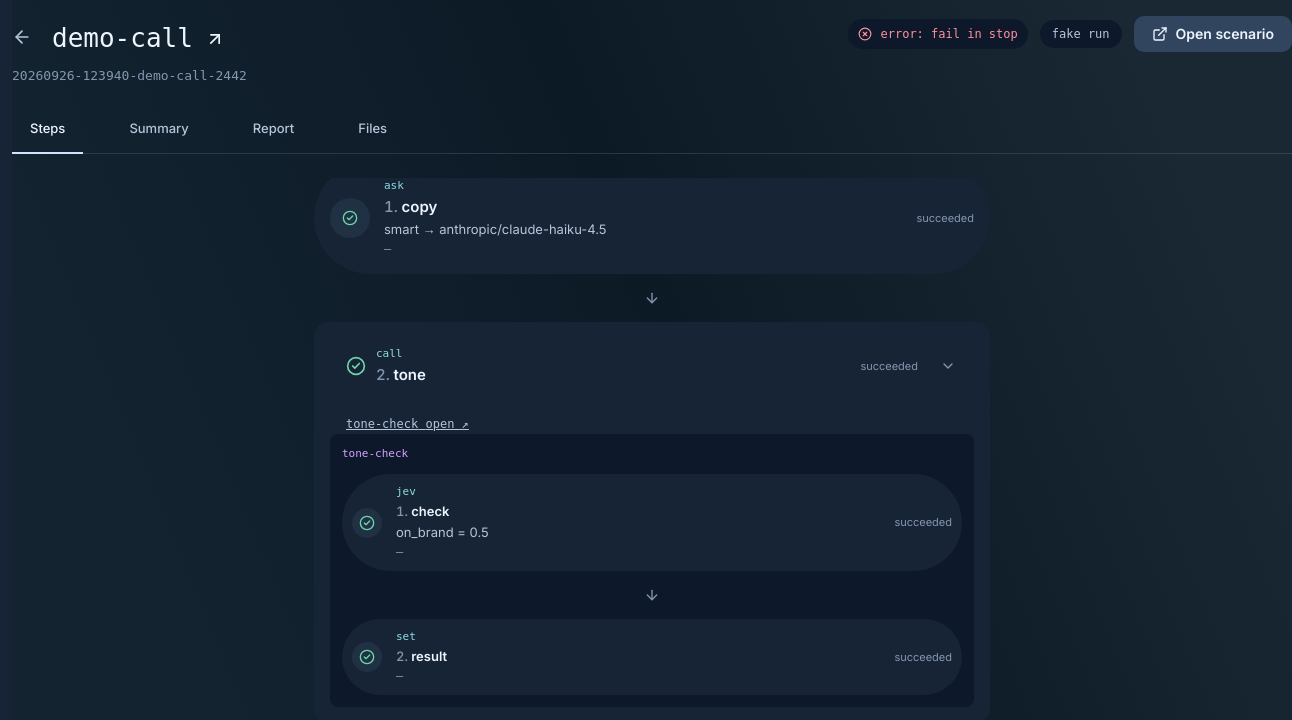
Test case: run detail › cards from the snapshot (tree, callees) and step data from steps; panel from …/steps/<path>
Expected: the text "fake run" is shown, 1040,20 -> 1122,48
Expected: the text "smart → anthropic/claude-haiku-4.5" is shown, 384,221 -> 607,237
Click the button with aria-label "Step 1: jev check" at [430, 511], box 342,474 -> 962,571
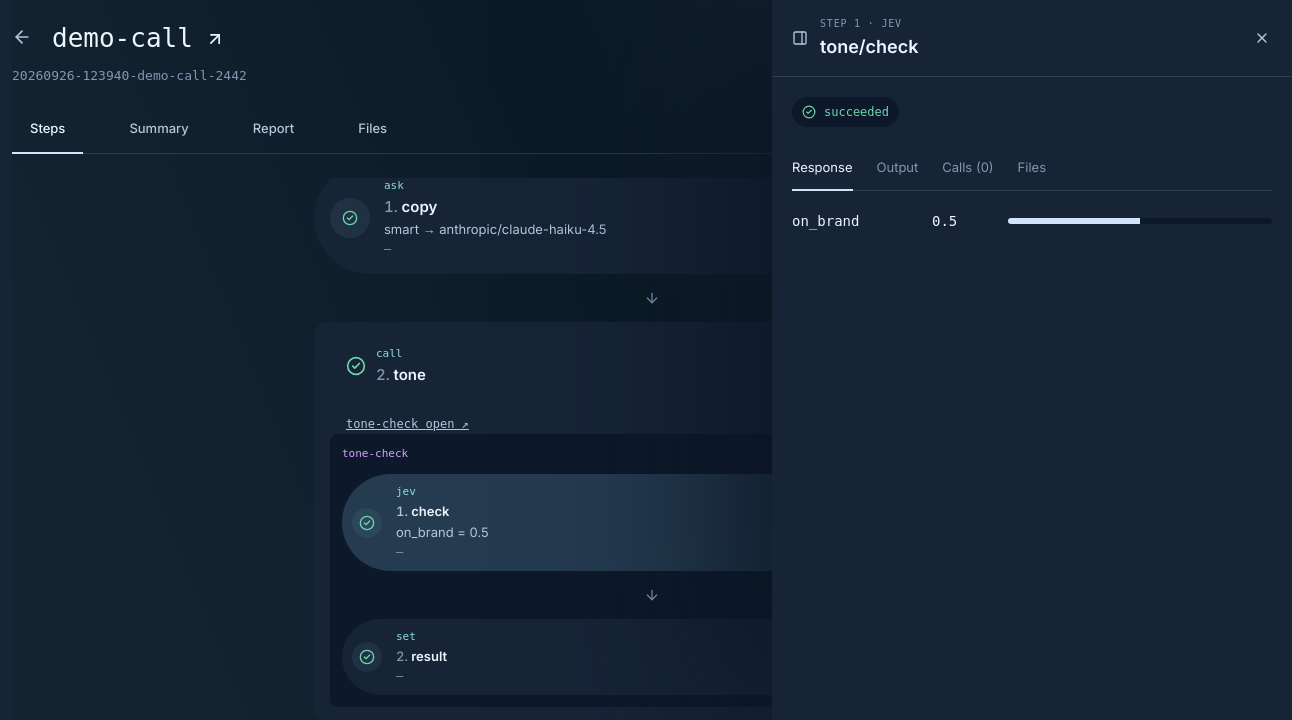
Click the tab "Output" at [897, 169], box 876,147 -> 918,191
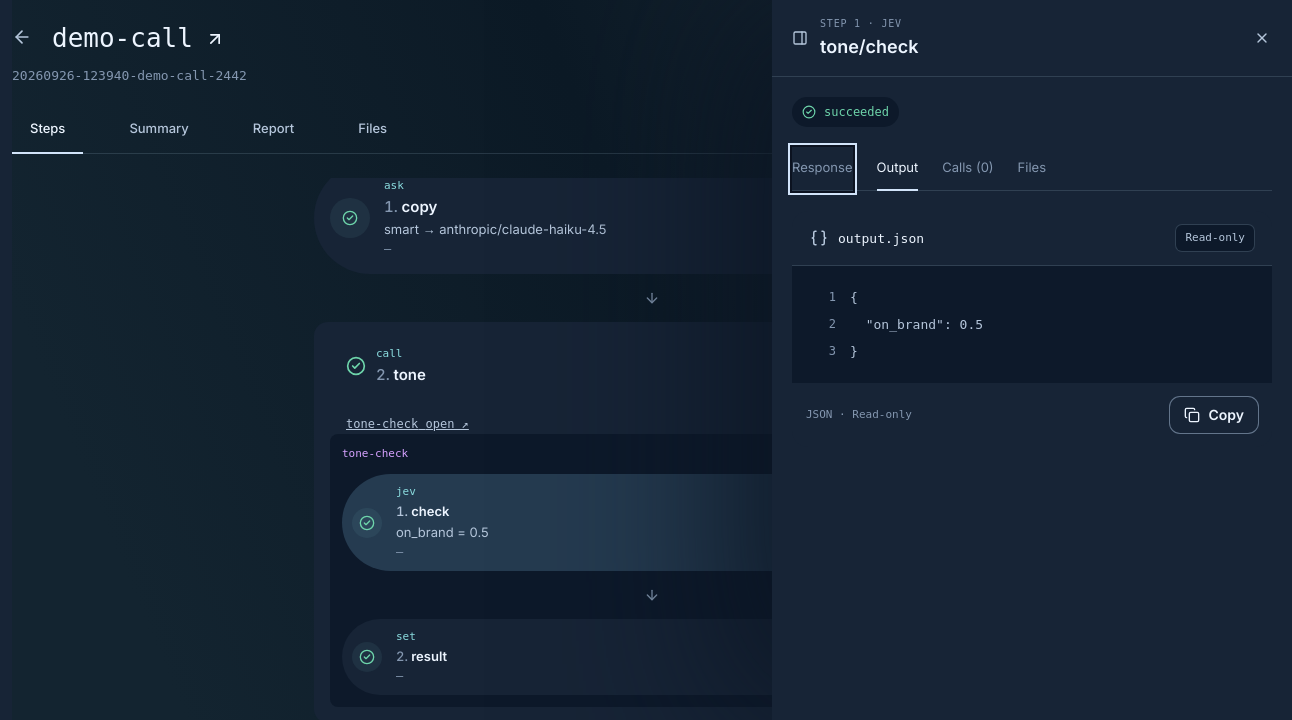
Expected: the text "\"on_brand\": 0.5" is shown, 850,311 -> 1272,338
